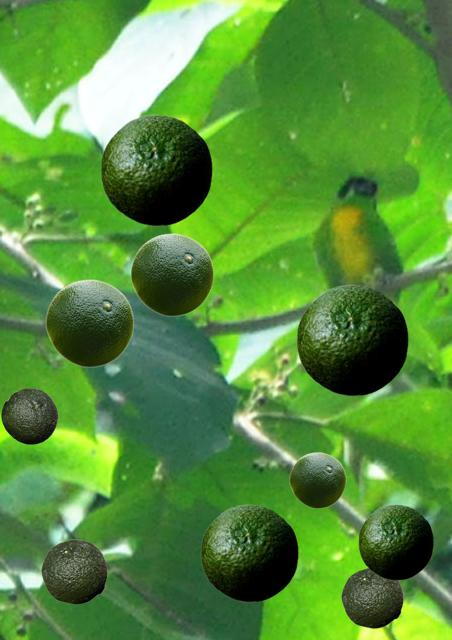calamansi: (100, 114, 211, 225), (296, 284, 407, 395), (200, 504, 297, 601), (45, 279, 133, 366), (130, 233, 213, 315), (358, 504, 432, 579), (41, 539, 106, 603), (341, 567, 402, 627), (1, 388, 57, 443), (289, 452, 345, 507)
